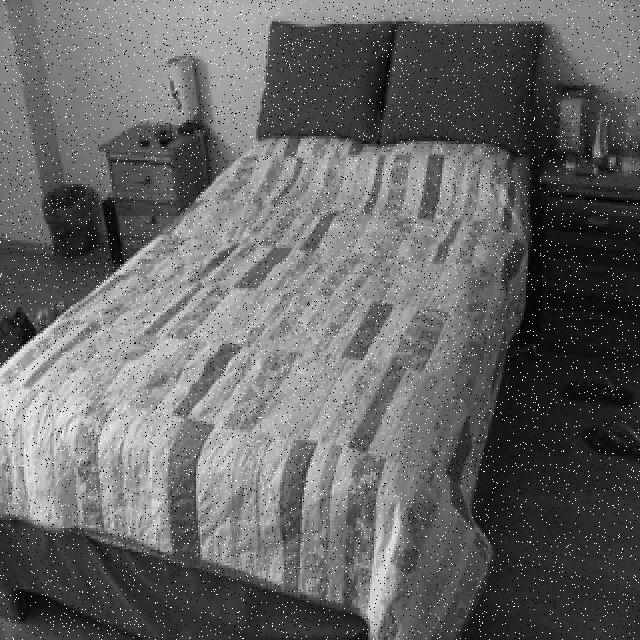bed: (0, 19, 550, 631)
